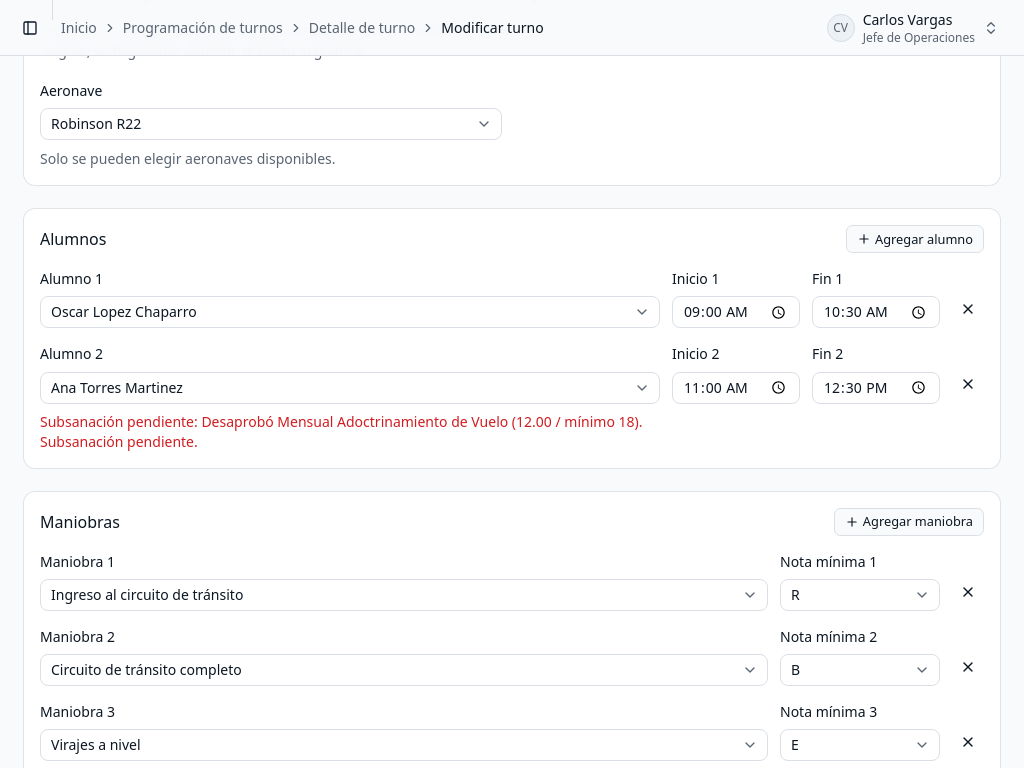
Test: Modificar turno › CA-TUR-12 guarda los cambios sin advertir cruces con su propio horario
The width and height of the screenshot is (1024, 768).
(page scrolled)
Click the button named "Quitar alumno 2" at (968, 384), box [952, 368, 984, 400]
(page scrolled)
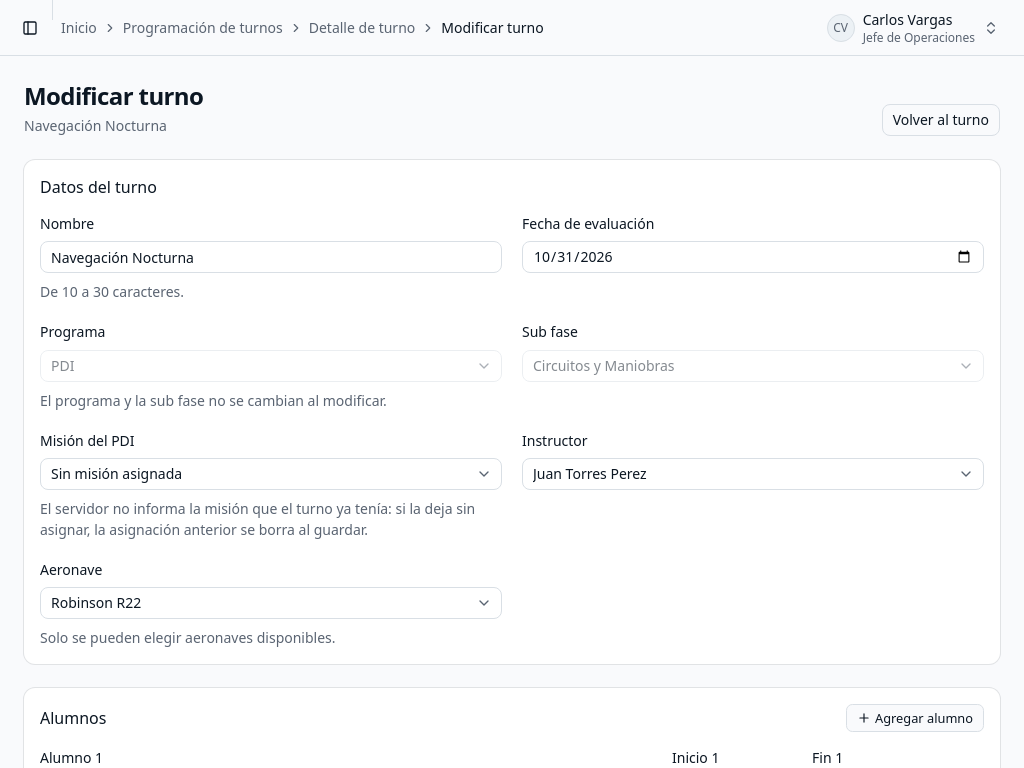
Replace the text in the field labelled "Nombre" with "Navegación Nocturna II" at (271, 257), box [40, 241, 502, 273]
(page scrolled)
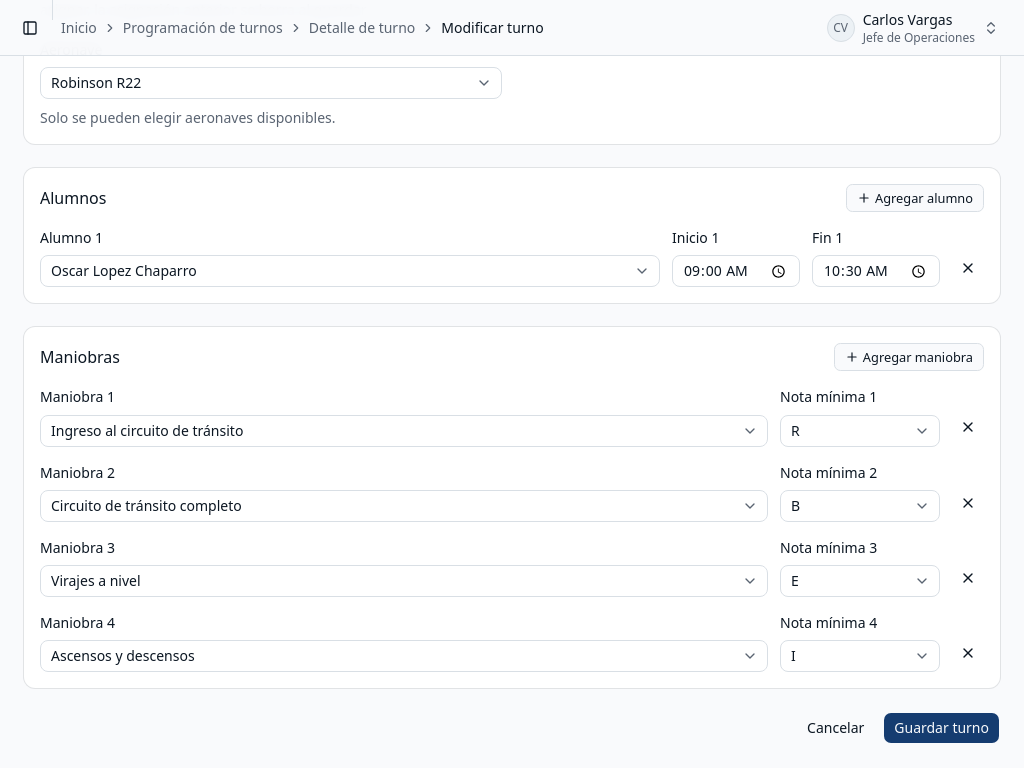
Click the button "Guardar turno" at (942, 728), box [883, 712, 1000, 744]
(page scrolled)
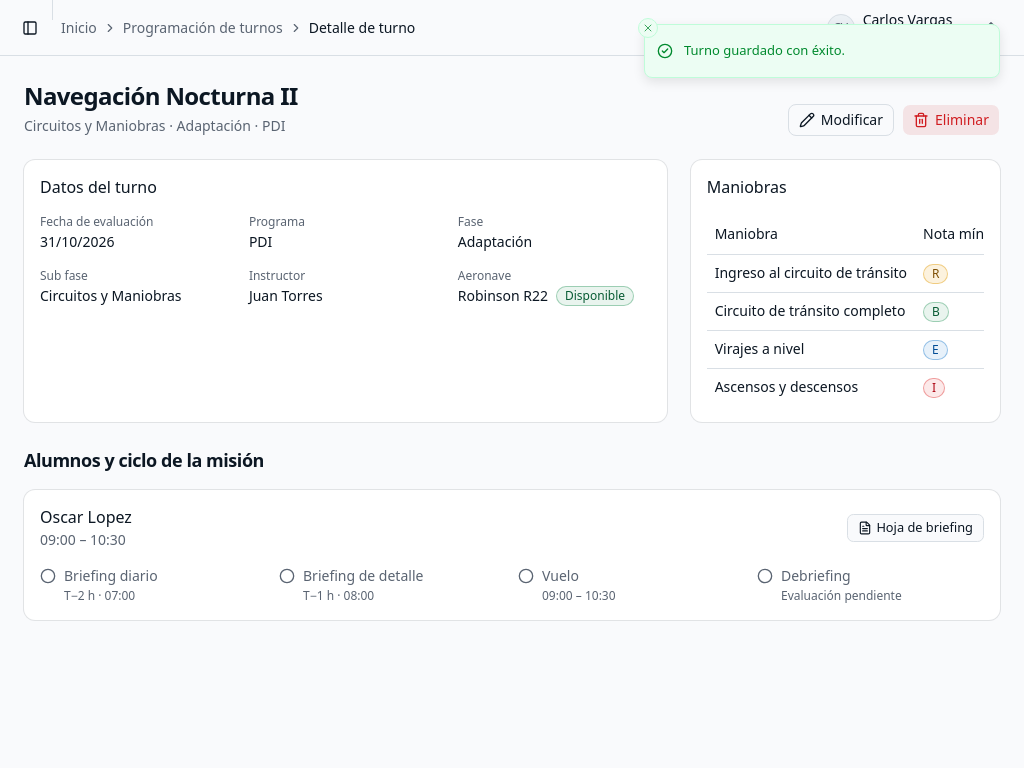
Check: the text "Turno guardado con éxito." is shown, box [684, 41, 845, 60]
Check: the heading "Navegación Nocturna II" is shown, box [24, 80, 298, 112]
